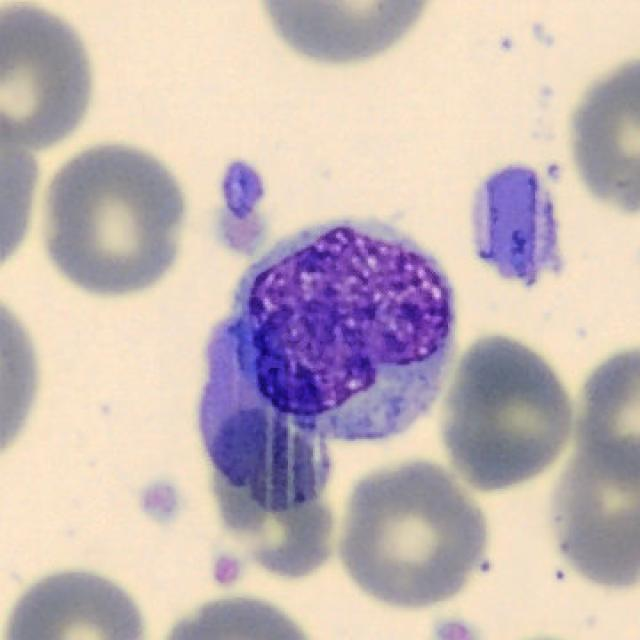Artefato: (471, 164, 562, 288)
Monocito: (231, 220, 455, 441)
